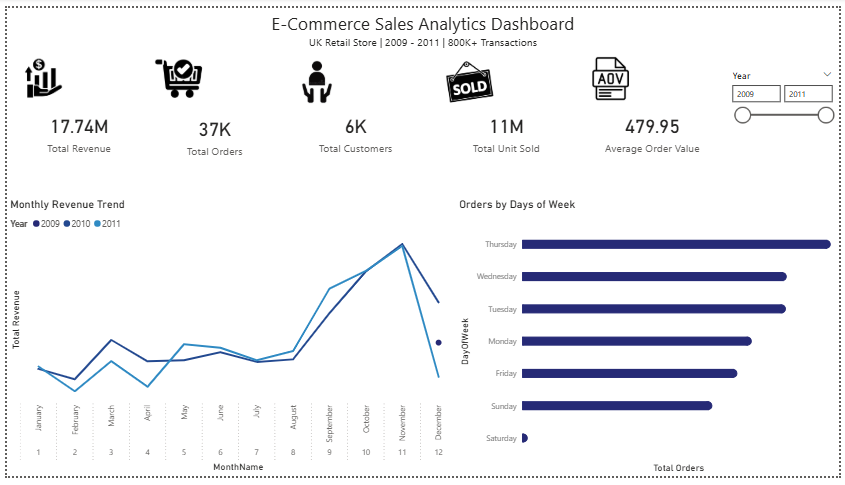

Layout of this report page (visuals, bound fields, positions):
{"tool":"powerbi","page":{"name":"Sales","canvas":[1280,720],"ordinal":0},"visuals":[{"type":"card","fields":{"Values":["ecommerce_db orders.TotalRevenue"]},"box":[0,91.1,221.9,200.9],"z":0},{"type":"card","fields":{"Values":["ecommerce_db orders.TotalOrders"]},"box":[221.9,100.4,196.2,191.5],"z":1000},{"type":"card","fields":{"Values":["ecommerce_db orders.TotalCustomers"]},"box":[418.1,91.1,235.9,200.9],"z":2000},{"type":"card","fields":{"Values":["ecommerce_db orders.TotalUnitSold"]},"box":[654,91.1,228.9,200.9],"z":3000},{"type":"card","fields":{"Values":["ecommerce_db orders.AvgOrderValue"]},"box":[882.9,91.1,219.6,200.9],"z":4000},{"type":"lineChart","title":"Monthly Revenue Trend","fields":{"Category":["ecommerce_db orders.Month","ecommerce_db orders.MonthName"],"Series":["ecommerce_db orders.Year"],"Y":["ecommerce_db orders.TotalRevenue"]},"box":[0,292,691.4,427.4],"z":5000},{"type":"barChart","title":"Orders by Days of Week","fields":{"Category":["ecommerce_db orders.DayOfWeek"],"Y":["ecommerce_db orders.TotalOrders"]},"box":[691.4,292,588.6,427.4],"z":6000},{"type":"slicer","fields":{"Values":["ecommerce_db orders.Year"]},"box":[1102.4,91.1,177.8,200.2],"z":7000},{"type":"textbox","box":[0,0,1280,91.1],"z":8000},{"type":"image","box":[0,55.4,110.8,104.6],"z":8001},{"type":"image","box":[221.5,67.7,84.6,81.5],"z":8002},{"type":"image","box":[418.5,67.7,116.9,92.3],"z":8003},{"type":"image","box":[653.8,67.7,115.4,92.3],"z":8004},{"type":"image","box":[870.8,64.6,115.4,87.7],"z":8005}]}

Visuals, with their boxes in screenshot pixels (x1, y1, x2, y2), scaled from the page's 1280x720 canvas onto the 845x485 screenshot:
card - ecommerce_db orders.TotalRevenue: l=0, t=61, r=146, b=197
card - ecommerce_db orders.TotalOrders: l=146, t=68, r=276, b=197
card - ecommerce_db orders.TotalCustomers: l=276, t=61, r=432, b=197
card - ecommerce_db orders.TotalUnitSold: l=432, t=61, r=583, b=197
card - ecommerce_db orders.AvgOrderValue: l=583, t=61, r=728, b=197
"Monthly Revenue Trend" lineChart: l=0, t=197, r=456, b=484
"Orders by Days of Week" barChart: l=456, t=197, r=844, b=484
slicer - ecommerce_db orders.Year: l=728, t=61, r=844, b=196
textbox: l=0, t=0, r=844, b=61
image: l=0, t=37, r=73, b=108
image: l=146, t=46, r=202, b=101
image: l=276, t=46, r=353, b=108
image: l=432, t=46, r=508, b=108
image: l=575, t=44, r=651, b=103
